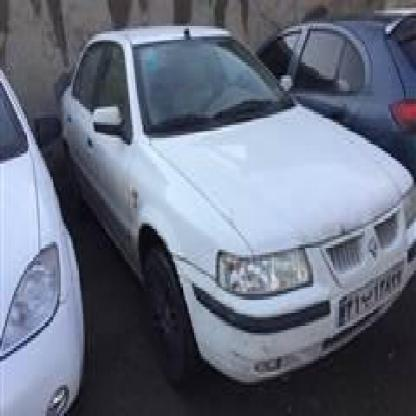Car: (59, 0, 416, 400), (0, 39, 90, 416), (248, 0, 416, 179)
